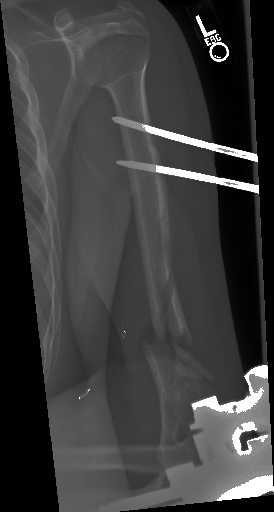fracture: (134, 289, 212, 378)
implant: (97, 87, 221, 201)
